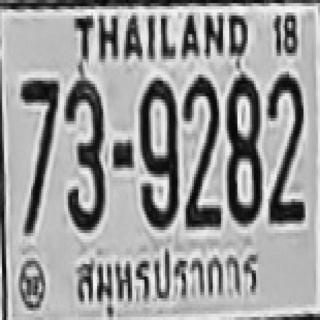N02: (265, 71, 302, 221), (182, 74, 219, 220), (268, 71, 302, 208)
N03: (64, 78, 103, 230)
N07: (19, 78, 58, 230), (19, 79, 58, 179)
N08: (225, 71, 260, 221)
N09: (138, 75, 178, 227)
P57: (68, 242, 262, 320)
